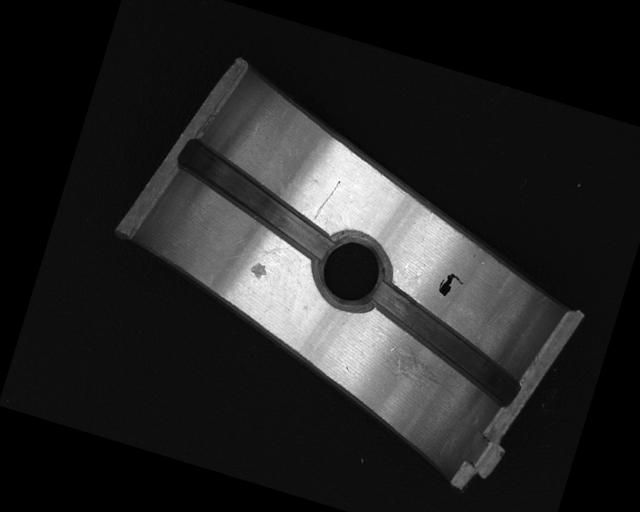blot: (435, 269, 467, 302)
bruise: (247, 259, 271, 283)
gap: (353, 281, 537, 409)
hole: (163, 137, 350, 264), (308, 224, 399, 314)
nick: (311, 175, 342, 226)
scratch: (365, 322, 468, 395)
